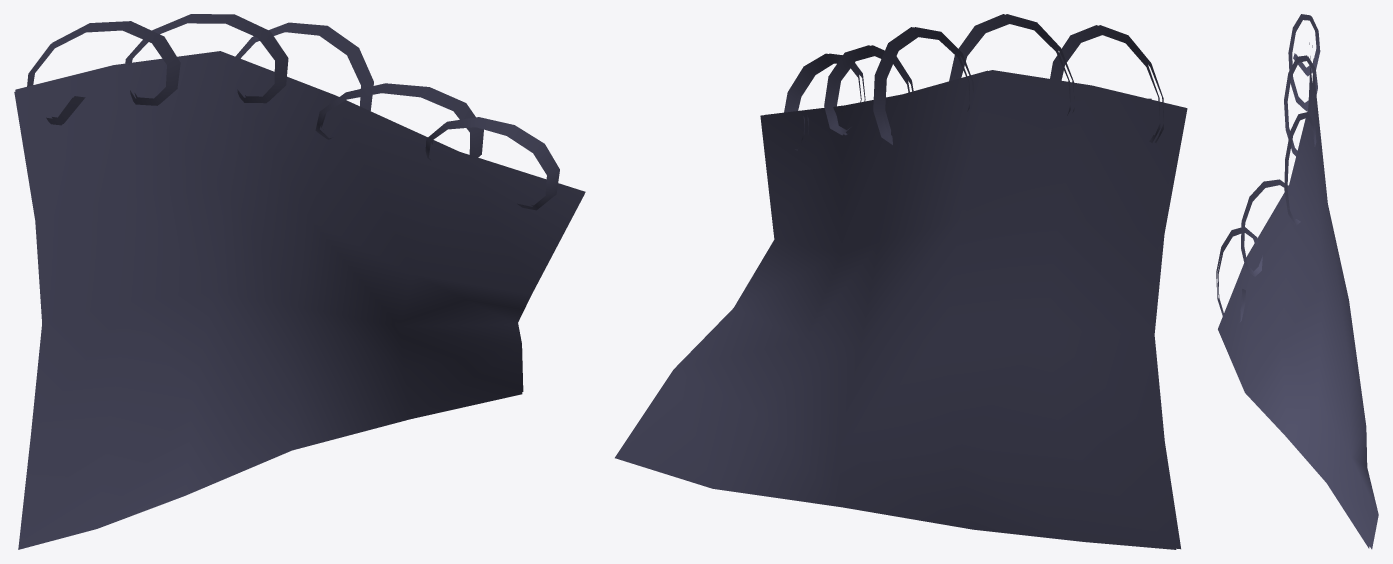
Rendered from mesh_WireFence_Fallen_v1.fbx.
3 renders of one model, left to right at view 1: azimuth 30°, elevation 25°; view 2: azimuth 150°, elevation 25°; view 3: azimuth 270°, elevation 25°, orthographic. The views are drawn at different scales.
Visible parts, largest first — view 1: mesh_WireFence_Fallen_v1_0; view 2: mesh_WireFence_Fallen_v1_0; view 3: mesh_WireFence_Fallen_v1_0.
Boxes of the visible parts, x1,y1,x2,y2 form: mesh_WireFence_Fallen_v1_0: [14, 14, 585, 549]; mesh_WireFence_Fallen_v1_0: [615, 14, 1187, 549]; mesh_WireFence_Fallen_v1_0: [1216, 14, 1378, 549].
Size of the model in its own units: 213 by 193 by 76.77.
